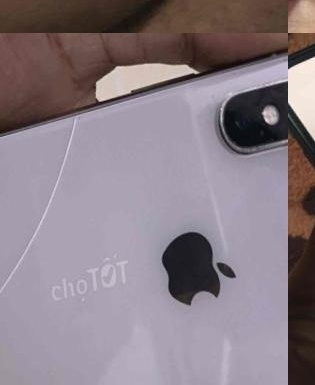physical_damage: (0, 139, 112, 385), (34, 116, 96, 194)
scratch: (212, 97, 229, 120)
